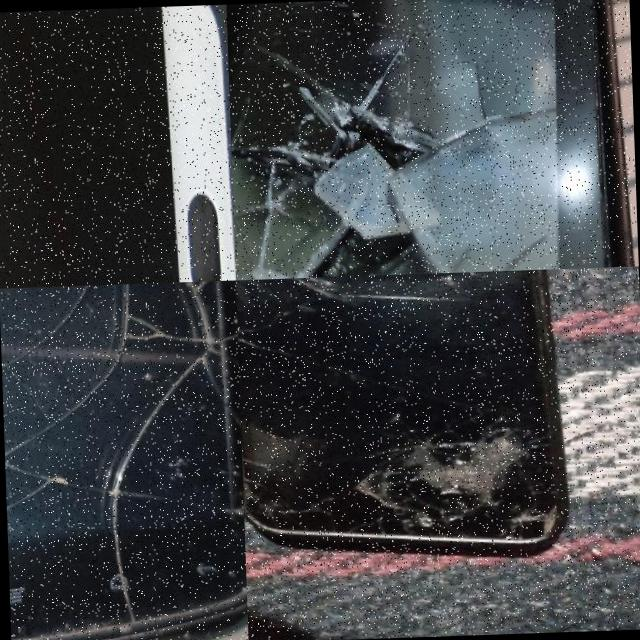screen crack: (226, 0, 580, 279), (0, 279, 248, 640), (347, 404, 568, 558), (242, 460, 294, 540), (236, 303, 266, 374)
